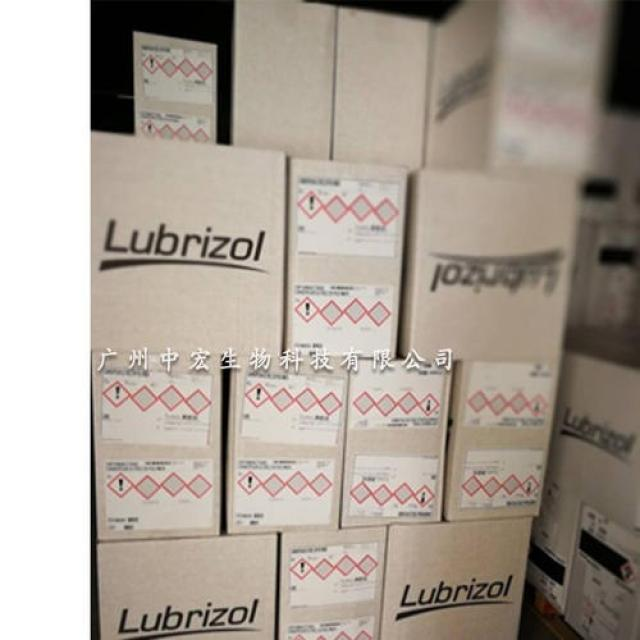box: (91, 131, 287, 355), (395, 166, 584, 360), (425, 1, 616, 178), (90, 346, 225, 541), (286, 153, 411, 358), (225, 354, 349, 535), (548, 322, 639, 540), (95, 534, 281, 637), (343, 357, 455, 527), (445, 361, 558, 520), (384, 518, 532, 638), (230, 3, 335, 160), (331, 9, 431, 167), (279, 529, 387, 639), (565, 503, 639, 636), (133, 35, 218, 142), (567, 221, 639, 326), (527, 477, 581, 614), (579, 113, 639, 221), (519, 592, 579, 639)
